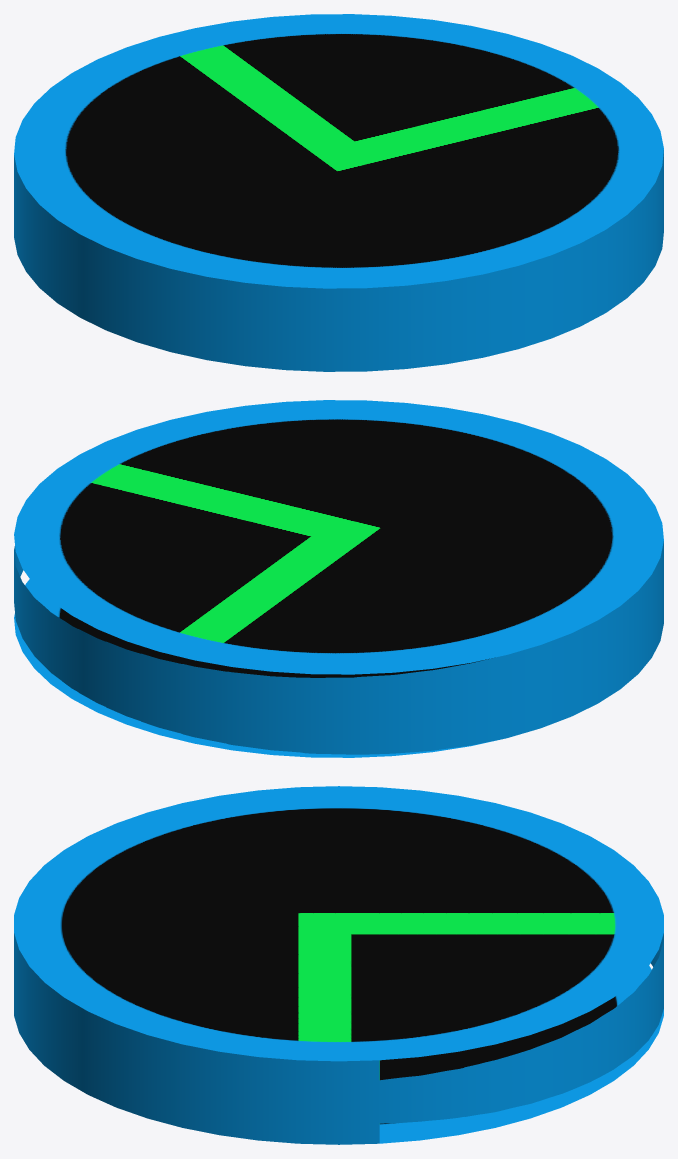
The model's file is button2.fbx.
The picture shows the model from 3 angles, top to bottom: view 1: azimuth 30°, elevation 25°; view 2: azimuth 150°, elevation 25°; view 3: azimuth 270°, elevation 25°; orthographic projection.
Visible parts, largest first — view 1: pCylinder1; view 2: pCylinder1; view 3: pCylinder1.
Boxes of the visible parts, x1=… form: pCylinder1: x1=14, y1=14, x2=663, y2=371; pCylinder1: x1=14, y1=400, x2=663, y2=757; pCylinder1: x1=14, y1=786, x2=663, y2=1144.
Bounding box in the file's own units: 2 × 0.2828 × 2.
1 material, 1 textured.
